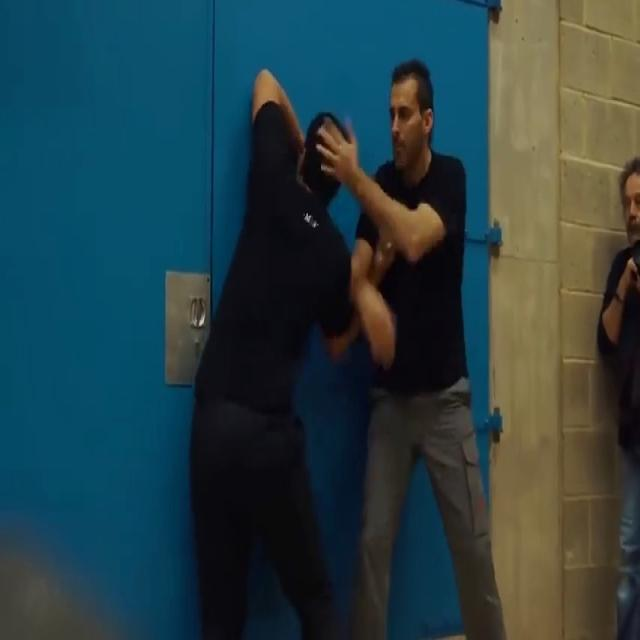fight: (157, 56, 502, 638)
